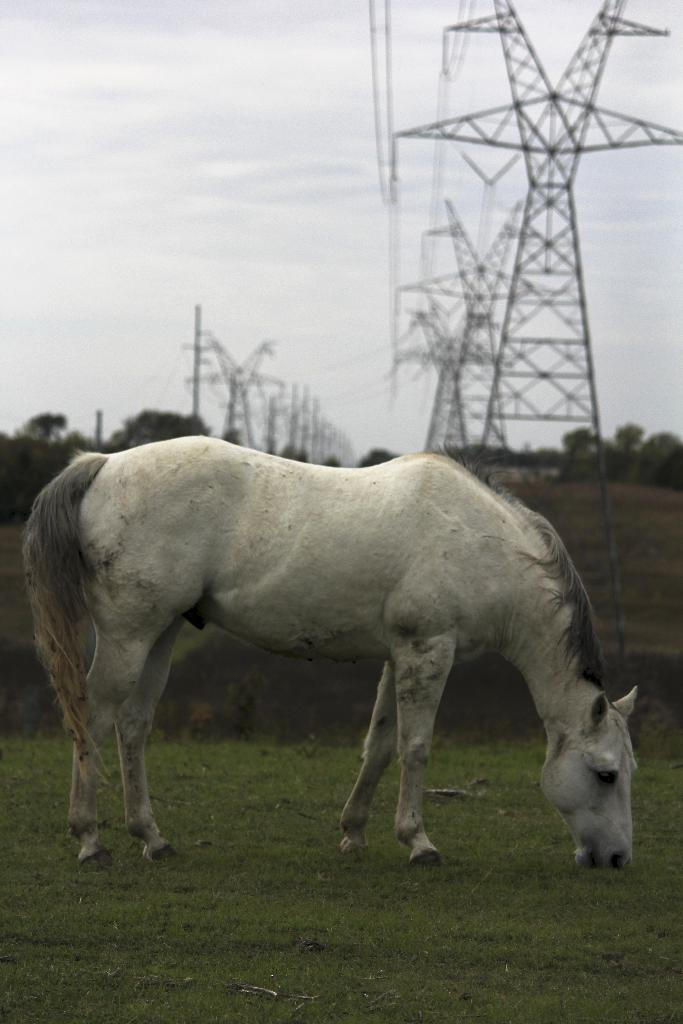horse: (20, 432, 638, 871)
